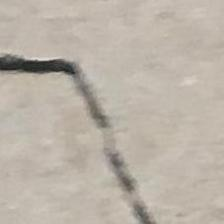Crack: (0, 32, 198, 224)
